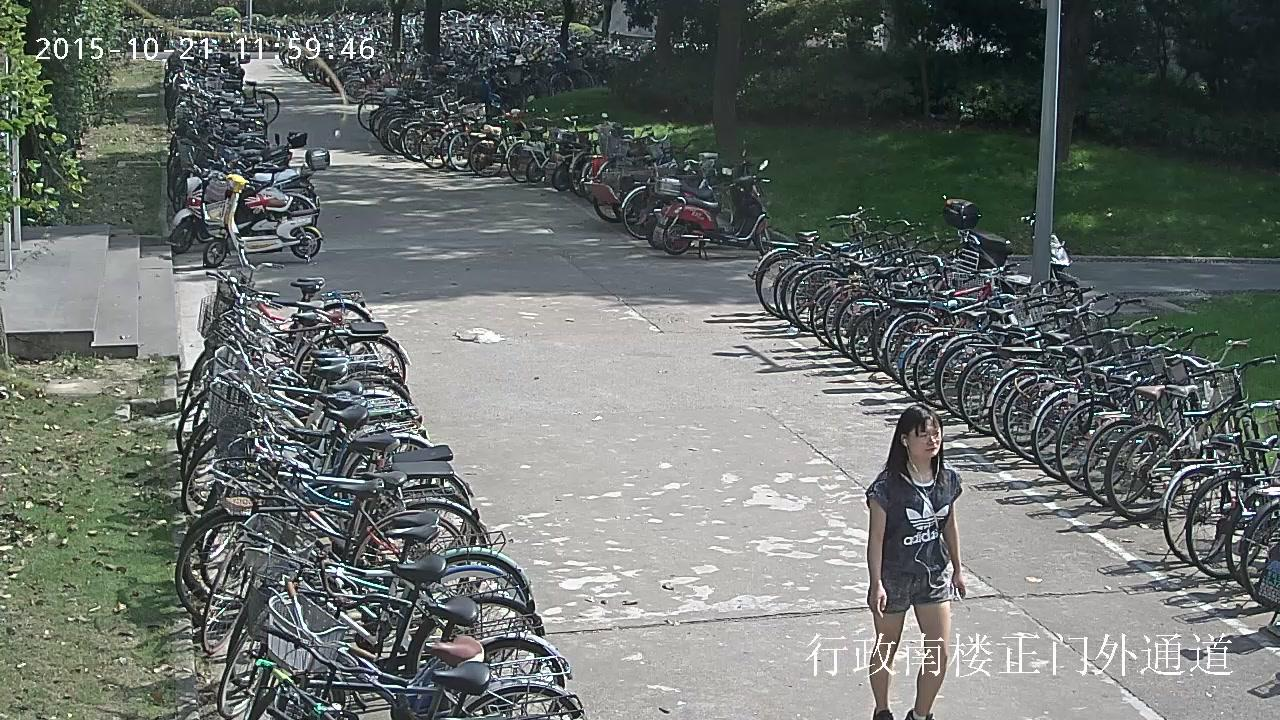face: (908, 418, 942, 457)
